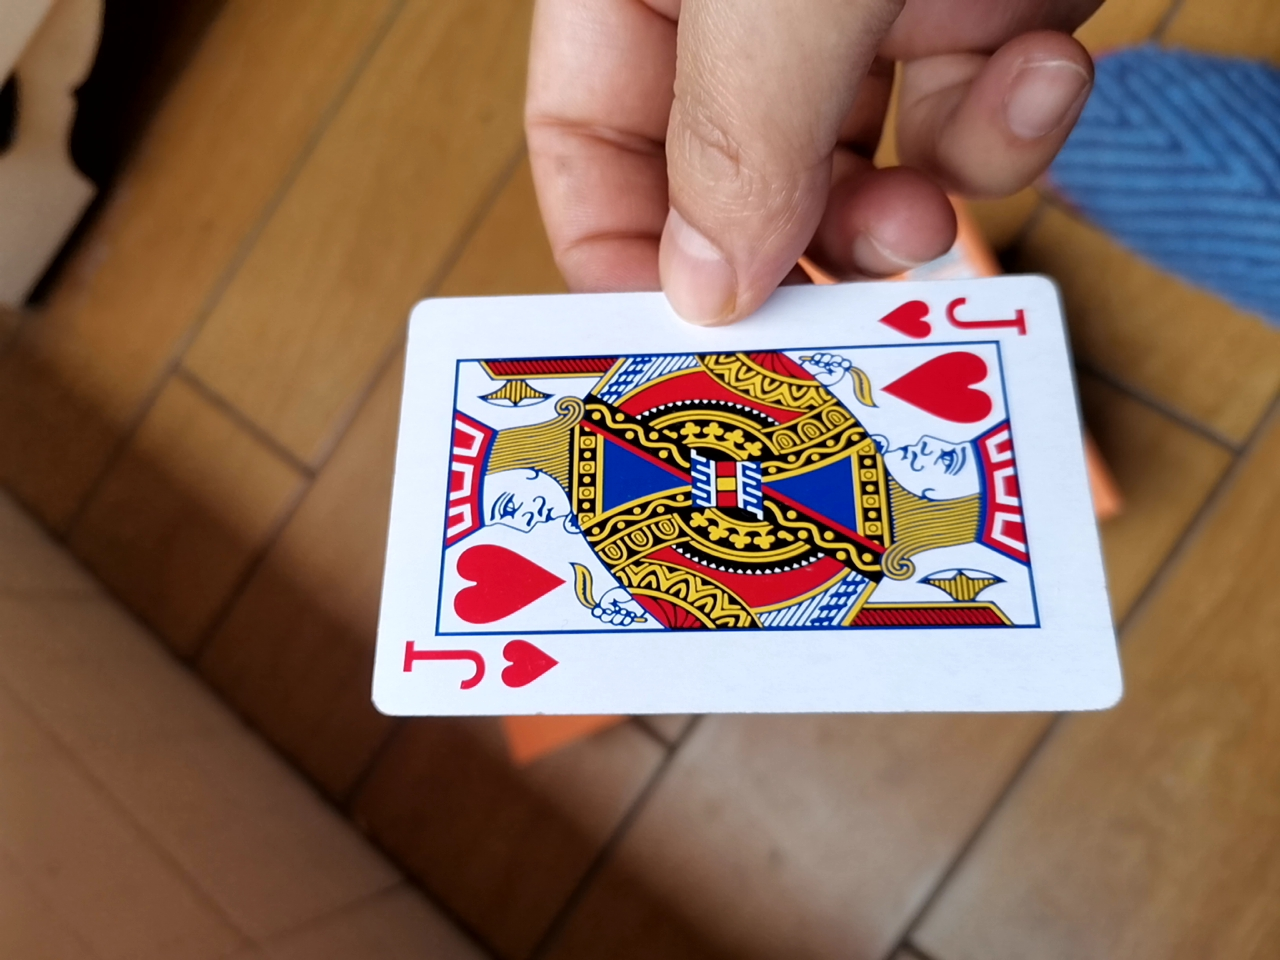hx j: (349, 264, 1113, 735)
